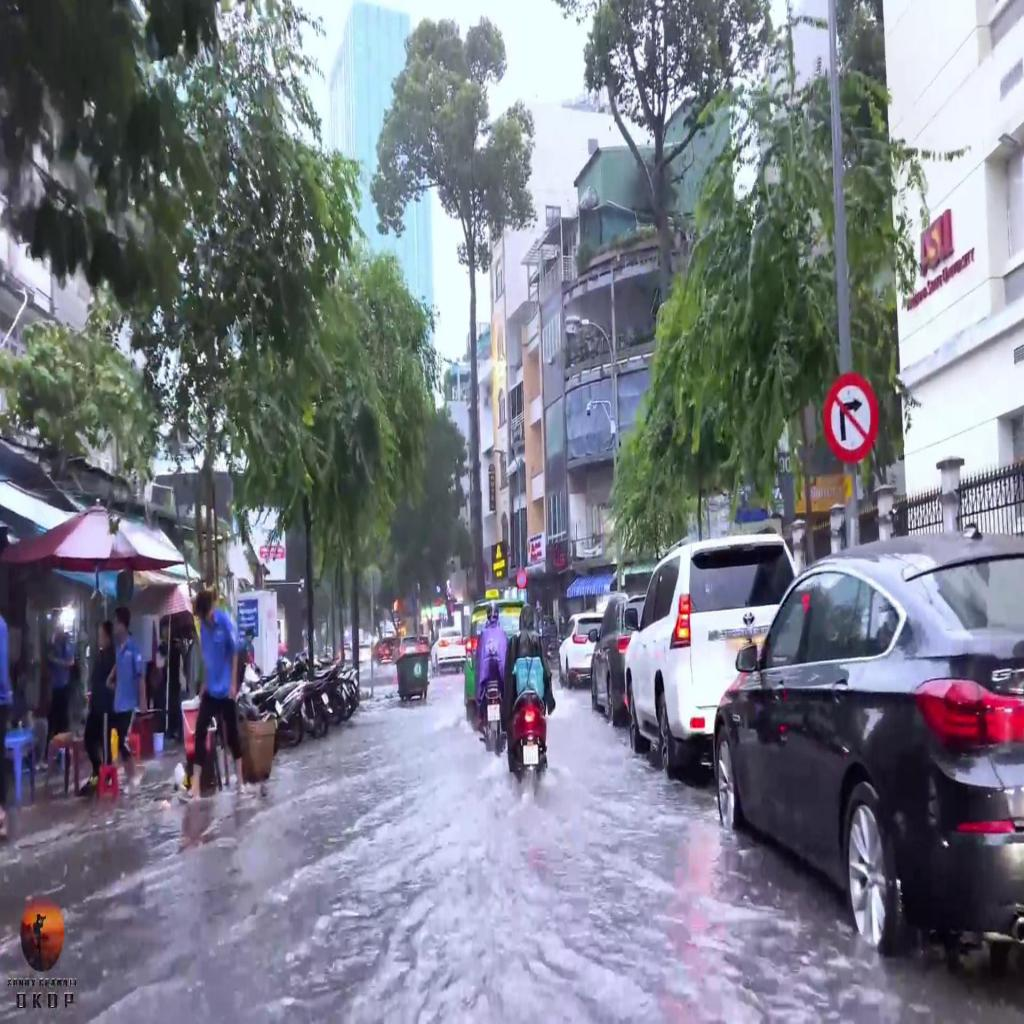cam_dung_xe_va_do_xe: (517, 570, 526, 588)
cam_re_phai: (822, 372, 878, 464)
duong_mot_chieu: (518, 590, 527, 601)
